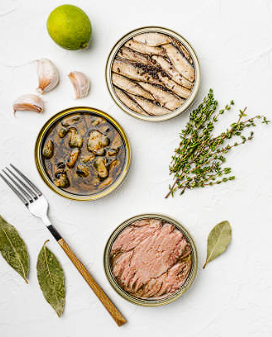Danificado: (32, 102, 136, 207), (105, 216, 198, 313), (109, 30, 199, 122)
